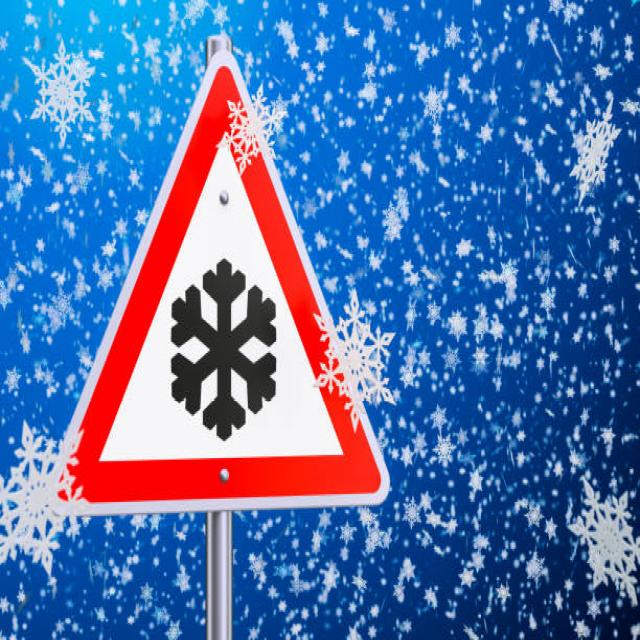snow_warning: (41, 37, 393, 524)
